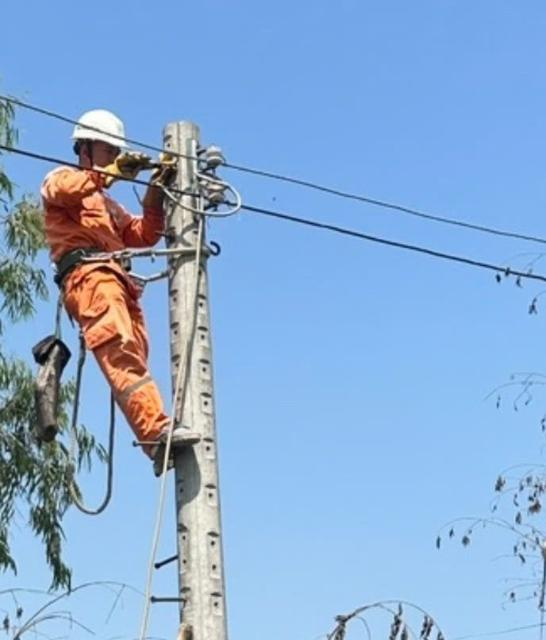gloves: (140, 151, 174, 221), (89, 150, 157, 176)
harness: (17, 237, 146, 278)
helmet: (67, 107, 140, 147)
shoes: (131, 419, 205, 454)
